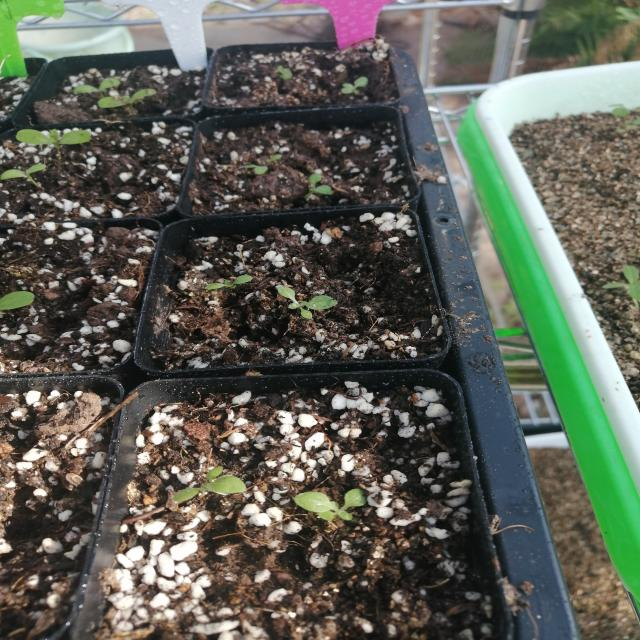horseweed: (292, 474, 406, 550), (177, 469, 273, 504)
